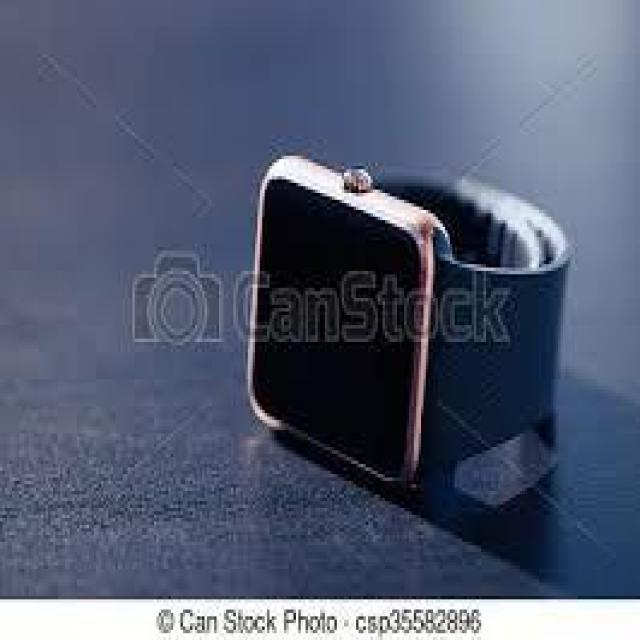watch: (157, 47, 585, 525)
